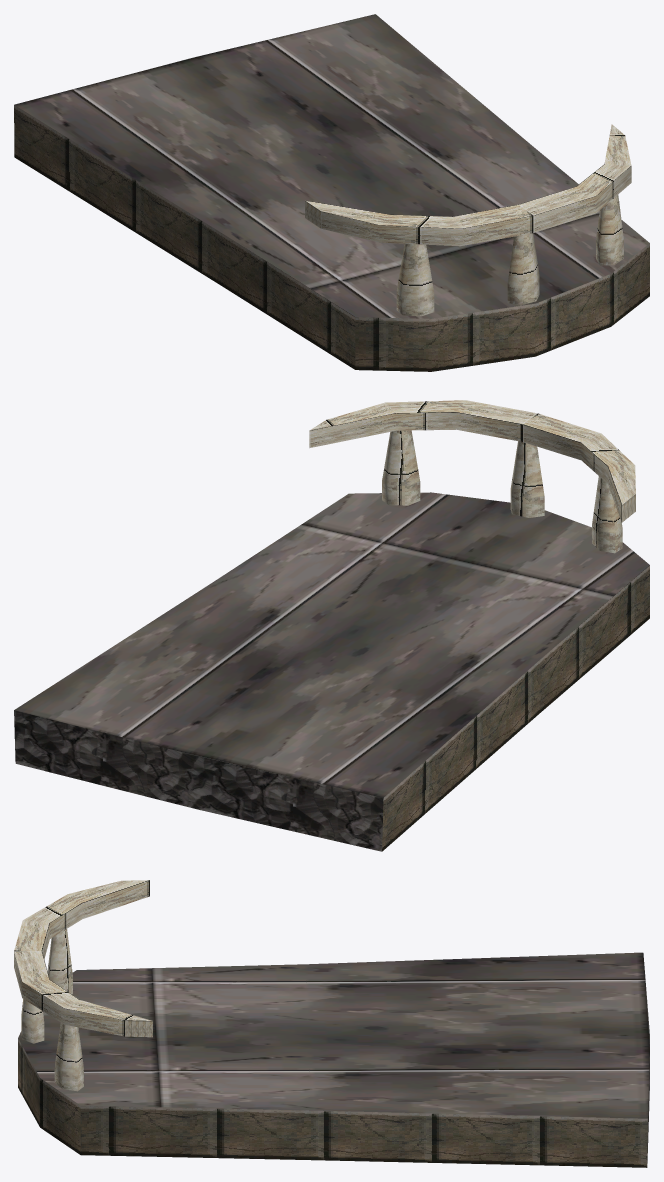
The model's file is INST_SM_WALKWAYC.fbx.
3 views of the same model, one above another, from view 1: azimuth 30°, elevation 25°; view 2: azimuth 150°, elevation 25°; view 3: azimuth 270°, elevation 25° (orthographic). The views are drawn at different scales.
Visible parts, largest first — view 1: INST_SM_WALKWAYC; view 2: INST_SM_WALKWAYC; view 3: INST_SM_WALKWAYC.
Part boxes in pixels (left/top/right/bottom): INST_SM_WALKWAYC: left=14, top=14, right=649, bottom=371; INST_SM_WALKWAYC: left=14, top=400, right=649, bottom=851; INST_SM_WALKWAYC: left=14, top=880, right=649, bottom=1167.
Bounding box in the file's own units: 43863 × 16601 × 70917.
4 materials, 4 textured.
